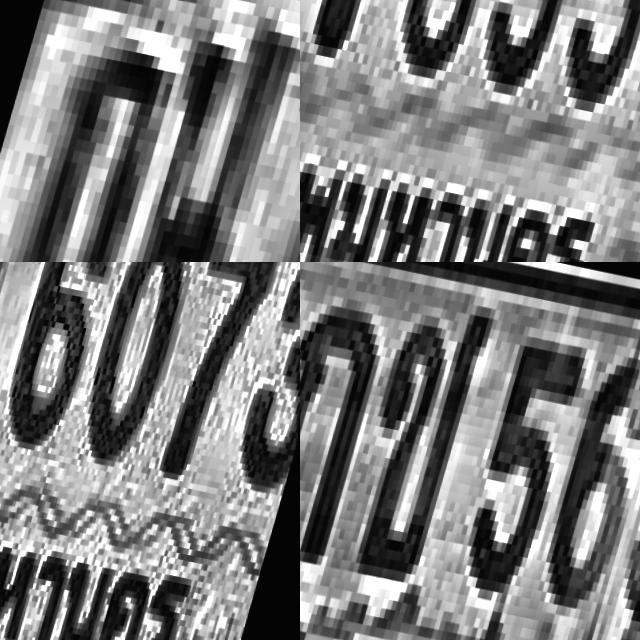license-plate: (300, 262, 640, 640), (0, 262, 300, 640), (300, 0, 640, 262), (0, 0, 300, 262)
